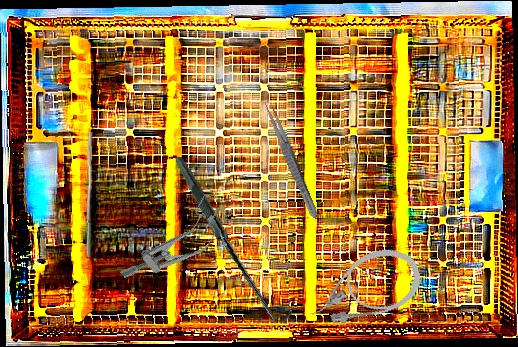Cannula: (299, 239, 428, 336)
Dressing Forceps: (260, 97, 322, 223)
Hook Surgical: (154, 156, 313, 322)
Pusher: (83, 131, 96, 258)
Speculum: (114, 189, 238, 300)
